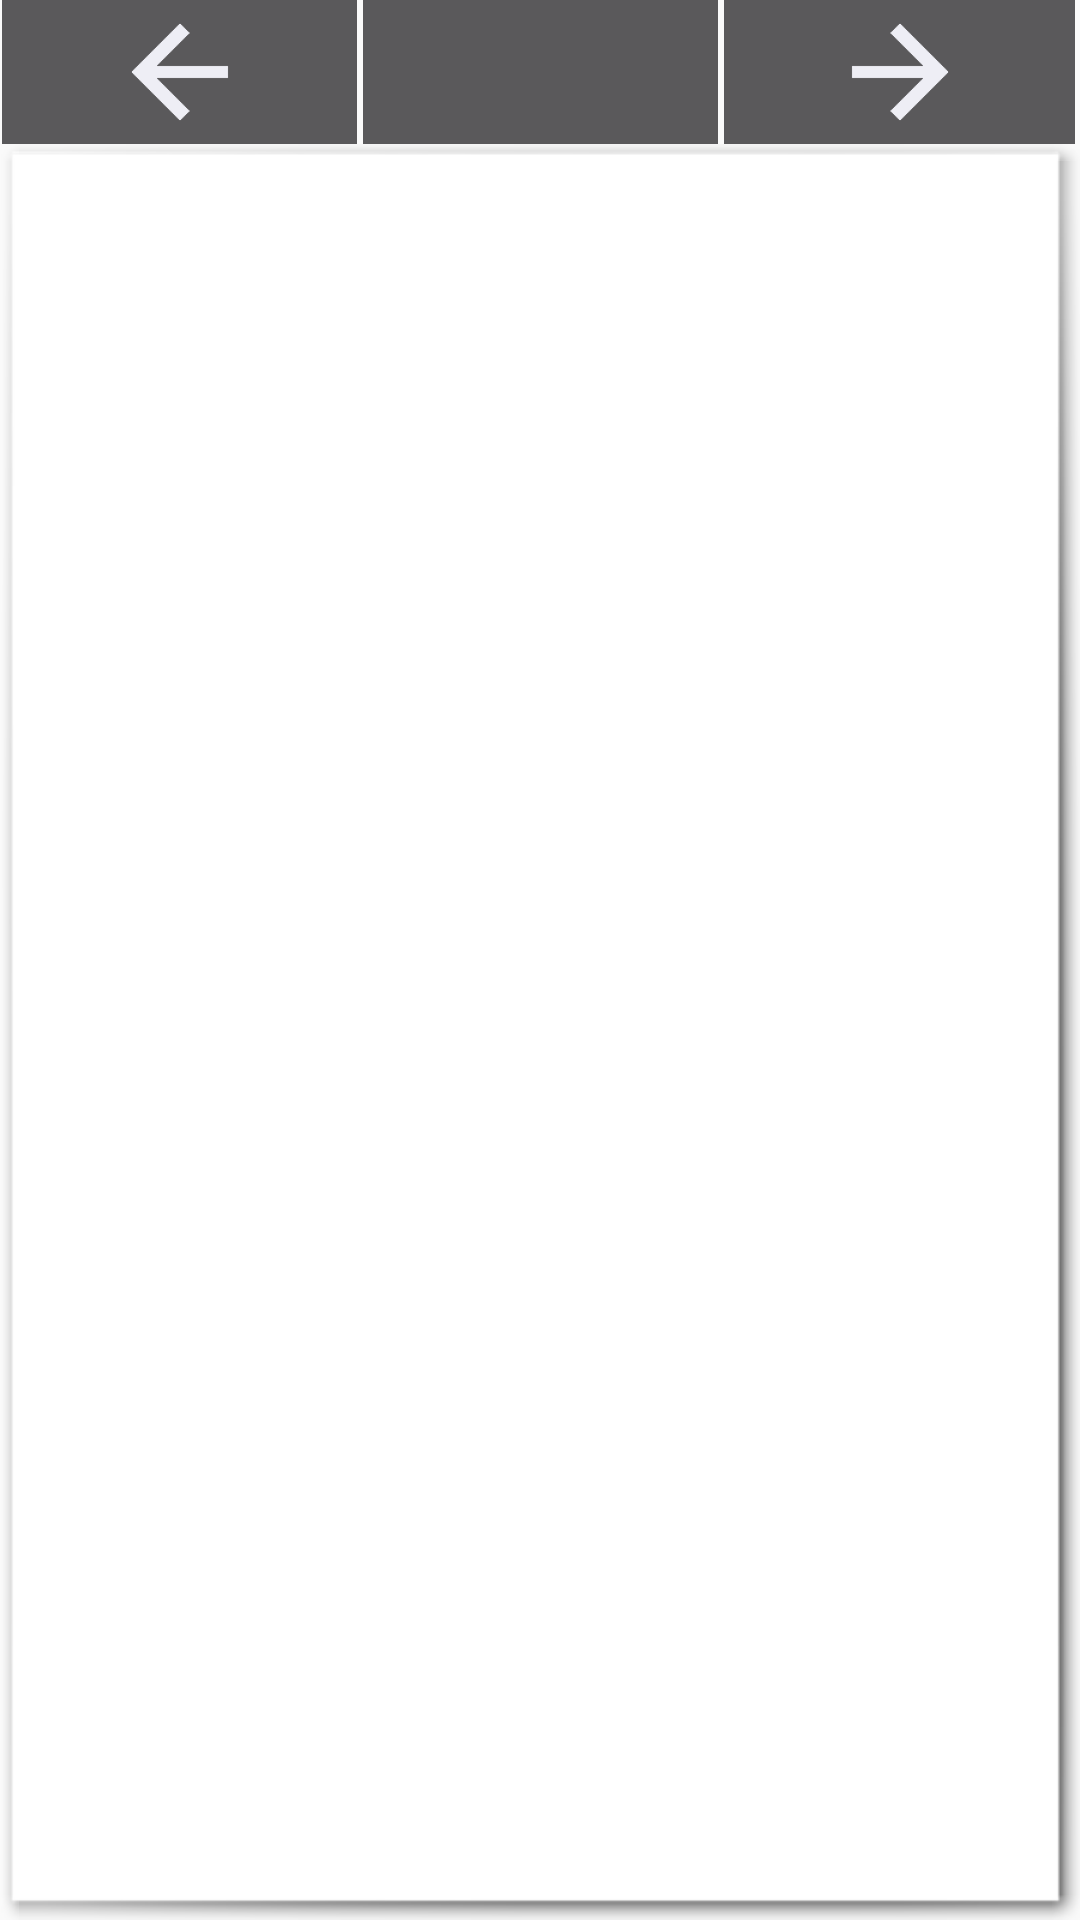

Named icons in this screenshot (1080px x 1920px) and their centers, (x=x, y=y):
back: (x=179, y=72)
forward: (x=899, y=72)
